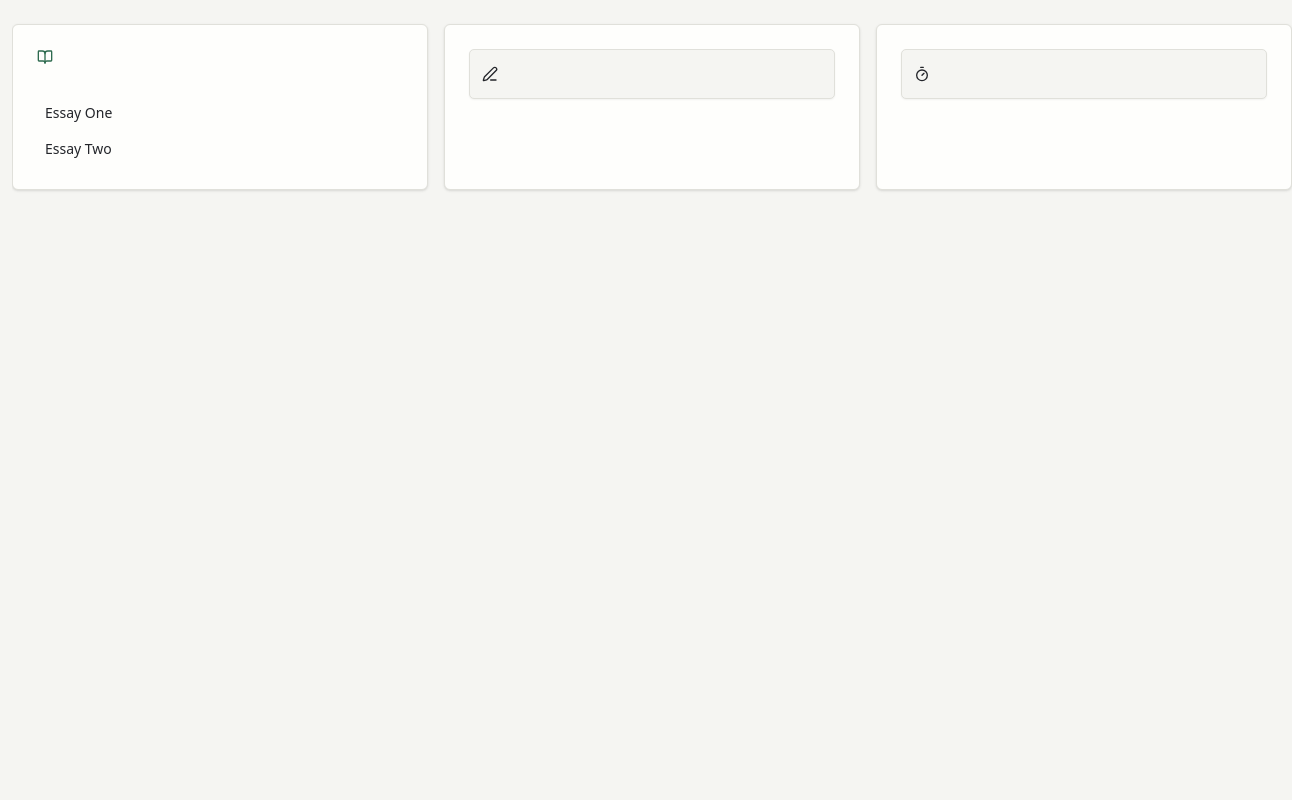
it: EssayPanel write view (写作台) › honestly reports all five sections unmet for an empty draft
Click the button with test id "ruankao-essay-home-write-entry" at {"x": 490, "y": 74}, box 469,49 -> 835,99
(page scrolled)
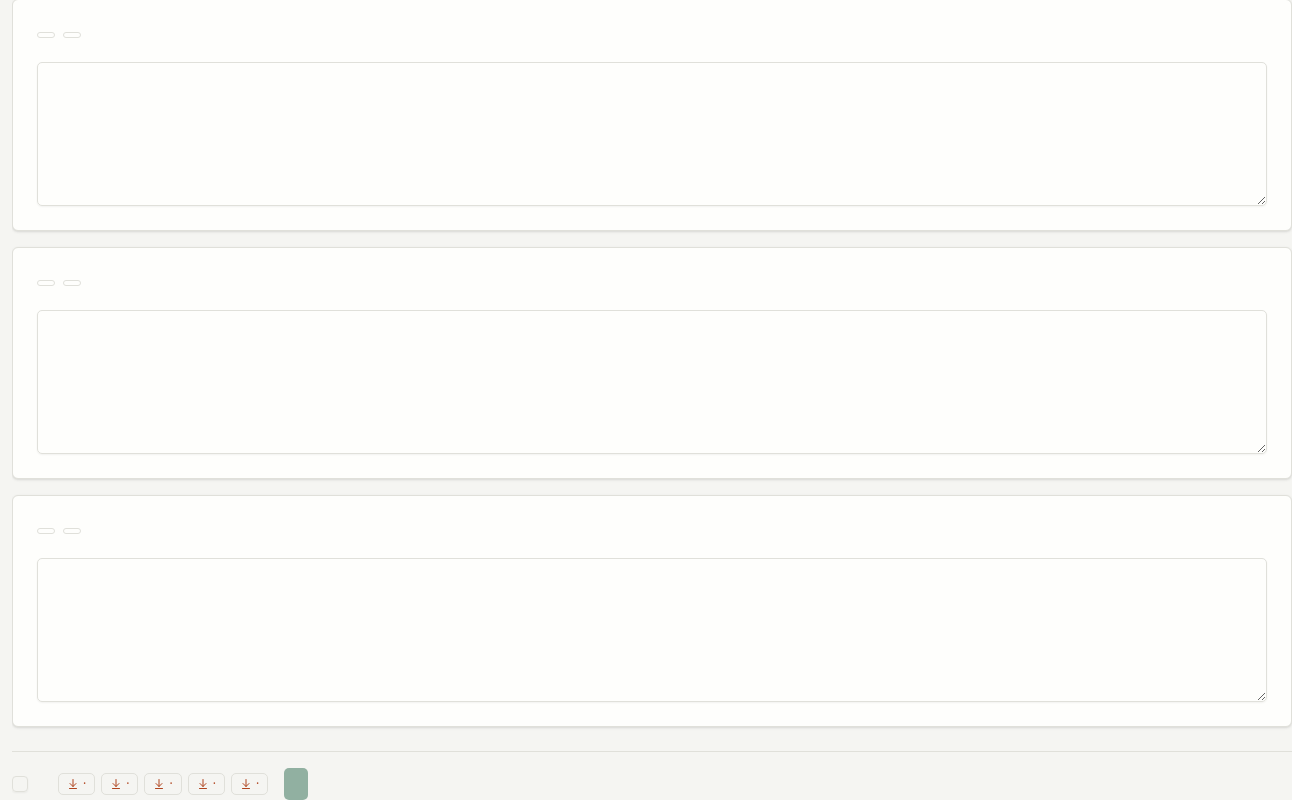
Result: the element with test id "ruankao-write-completeness-chip-abstract" is shown at 58,773 -> 95,795
Result: the element with test id "ruankao-write-completeness-chip-background" is shown at 101,773 -> 138,795
Result: the element with test id "ruankao-write-completeness-chip-question2" is shown at 144,773 -> 182,795
